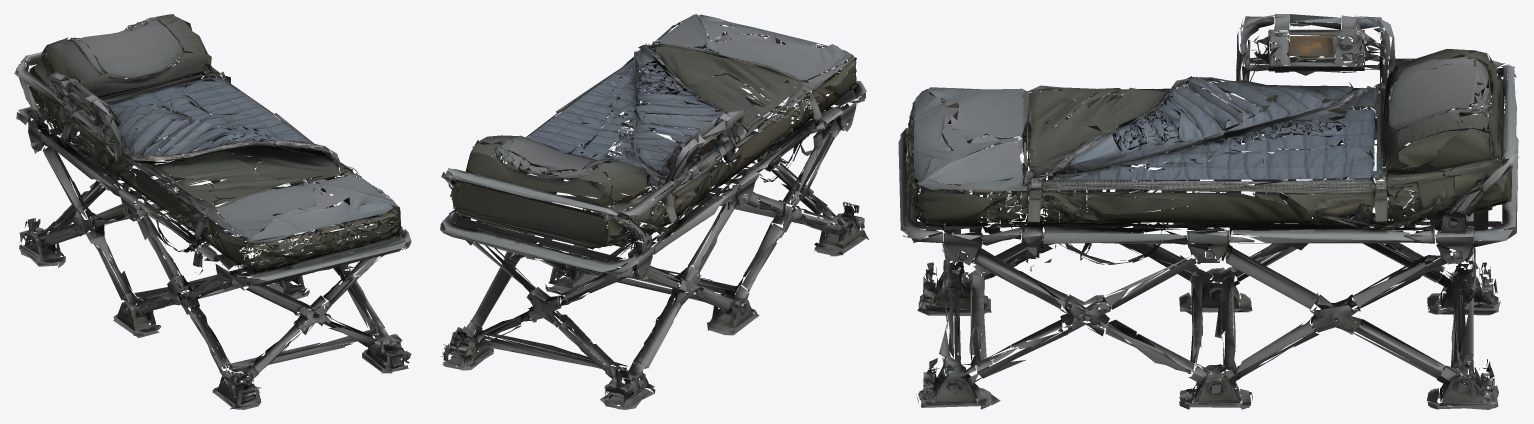
File: base_cot_installed.glb
3 views of the same model, side by side, from view 1: azimuth 30°, elevation 25°; view 2: azimuth 150°, elevation 25°; view 3: azimuth 270°, elevation 25° (orthographic). The views are drawn at different scales.
Parts seen in each view (by area): view 1: node_0; view 2: node_0; view 3: node_0.
Part boxes in pixels (box(x1,y1,x2,y2)): node_0: box(14, 14, 411, 409); node_0: box(440, 14, 868, 409); node_0: box(898, 14, 1519, 409).
Bounding box in the file's own units: 0.4839 × 0.5346 × 1.05.
1 material, 1 textured.
